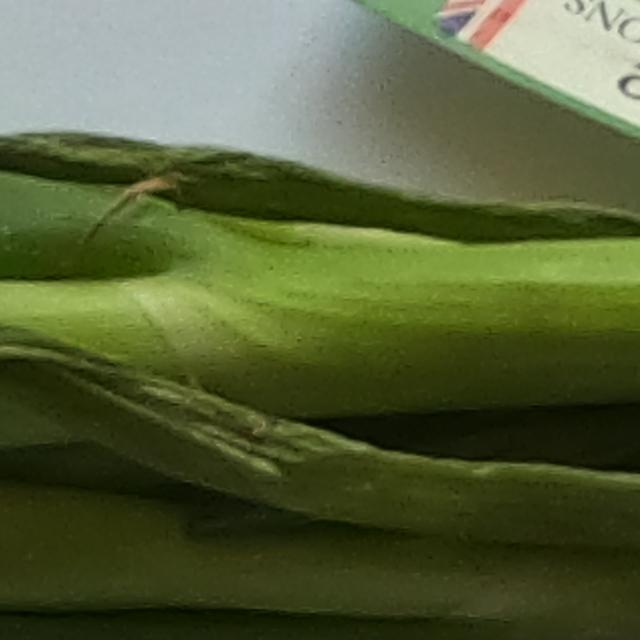green_onion: (0, 132, 640, 640)
